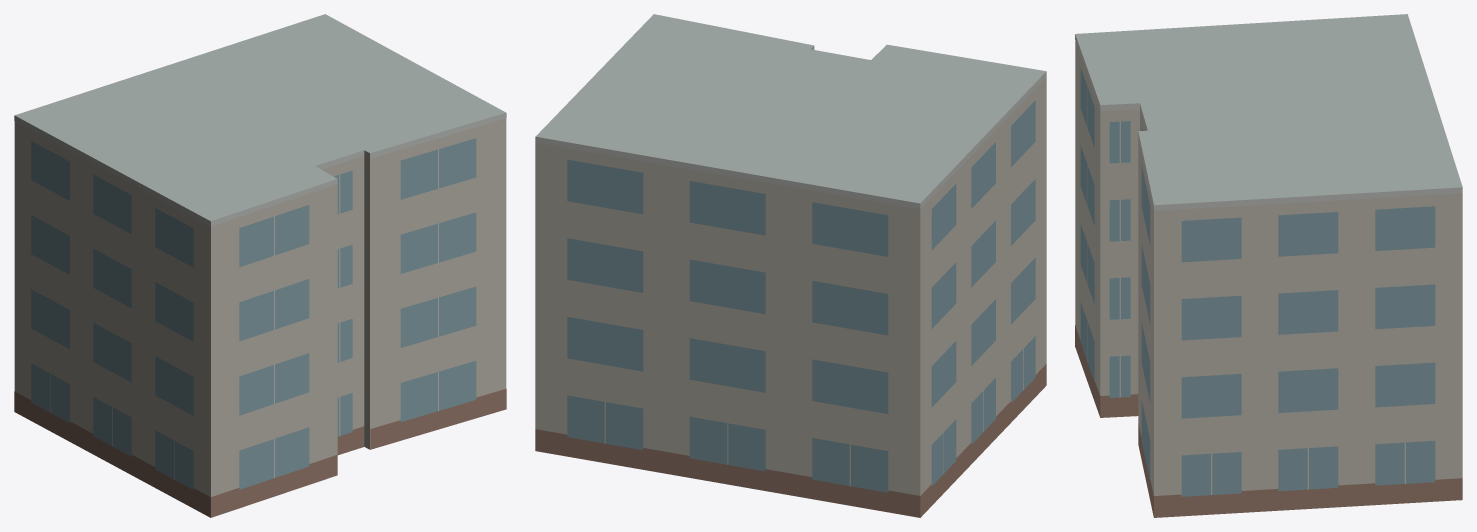
Rendered from survey-upis-32576355.glb.
3 views of the same model, side by side, from view 1: azimuth 30°, elevation 25°; view 2: azimuth 150°, elevation 25°; view 3: azimuth 270°, elevation 25° (orthographic). The views are drawn at different scales.
Visible parts, largest first — view 1: survey-upis-32576355.tmp; view 2: survey-upis-32576355.tmp; view 3: survey-upis-32576355.tmp.
Boxes of the visible parts, x1,y1,x2,y2 form: survey-upis-32576355.tmp: (14, 14, 506, 517); survey-upis-32576355.tmp: (535, 14, 1046, 517); survey-upis-32576355.tmp: (1075, 14, 1462, 517).
Bounding box in the file's own units: 17.19 × 13.1 × 14.73.
